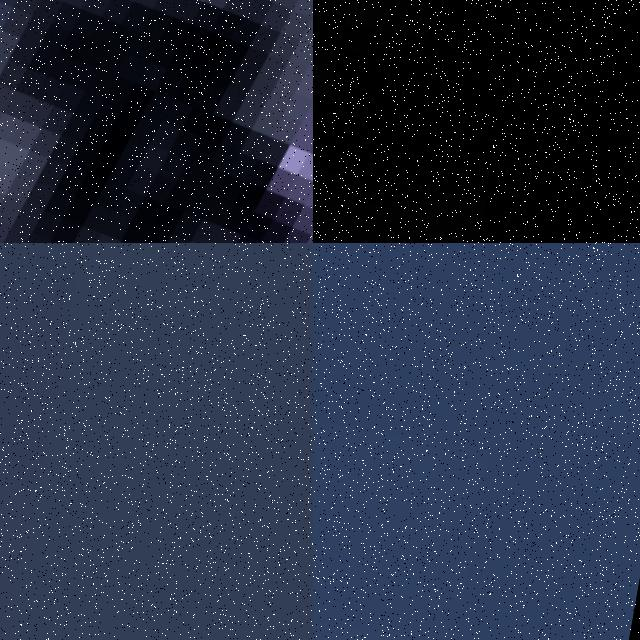drone: (0, 0, 313, 243)
